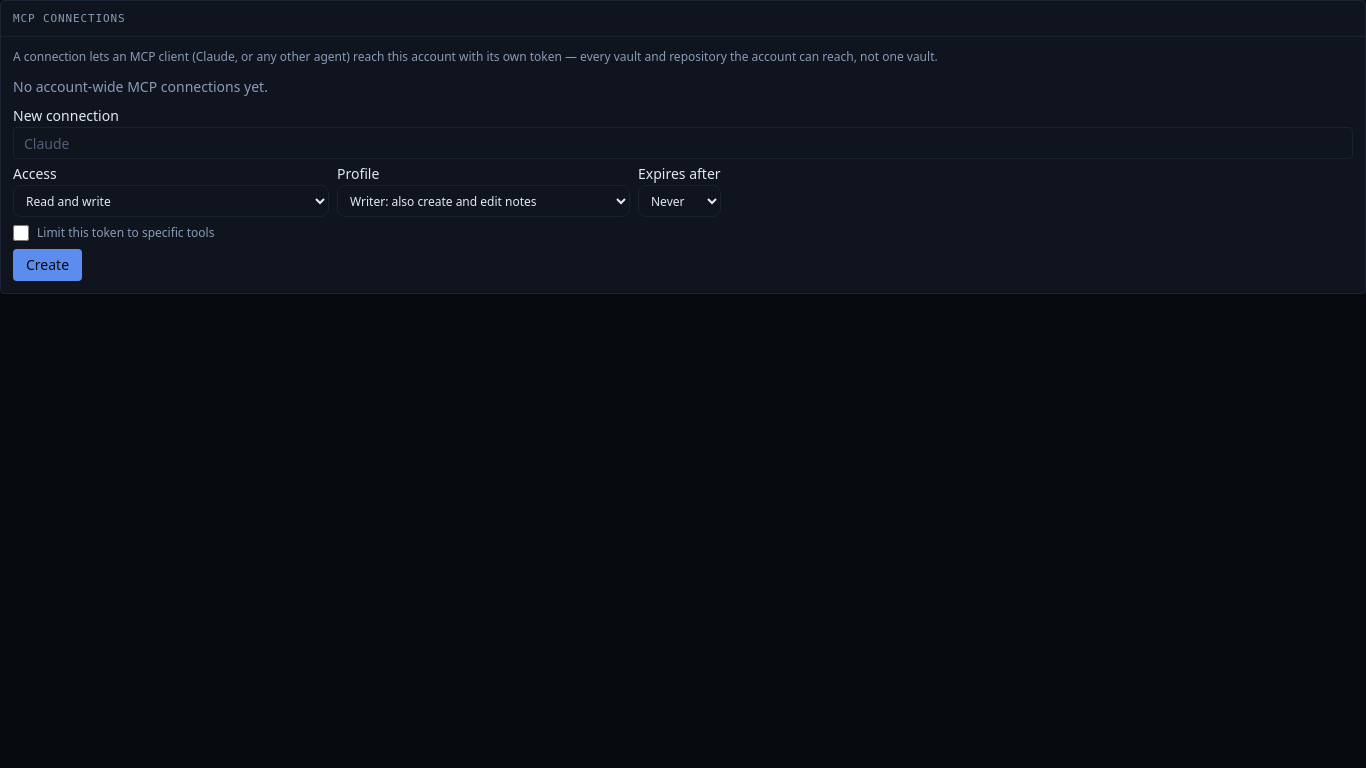
Test case: VaultMcpPanel › the profile follows the access level until one is picked, then is sent as picked (#428)
This screenshot has width=1366, height=768.
Expected: the text "No account-wide MCP connections yet." is shown, [13,77,268,96]
Expected: the dropdown labelled "Profile" shows "Writer: also create and edit notes", [337,185,630,217]
Select "Read only" in the dropdown labelled "Access" at (171, 201), box [13,185,329,217]
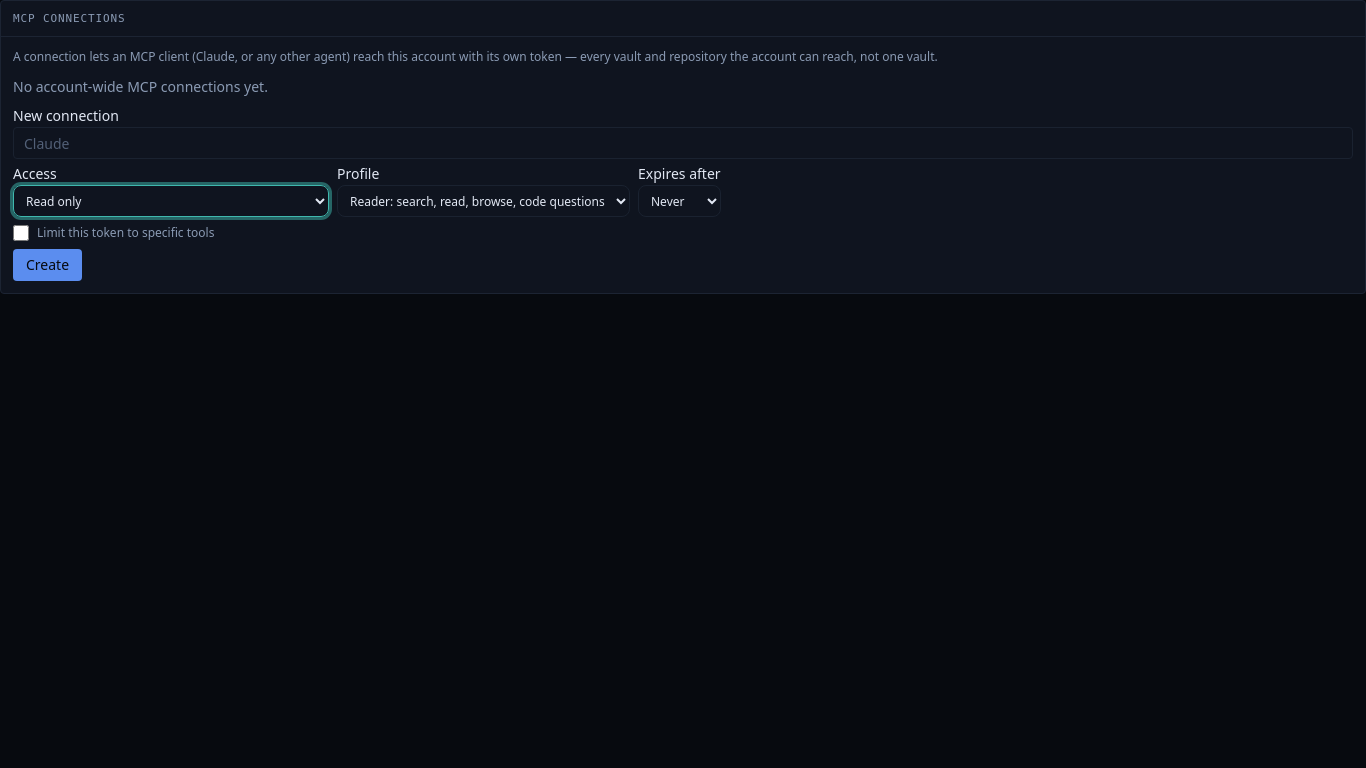
Now the dropdown labelled "Profile" shows "Reader: search, read, browse, code questions", box [337,185,630,217]
Select "Admin: also share, change settings, delete, purge" in the dropdown labelled "Access" at (171, 201), box [13,185,329,217]
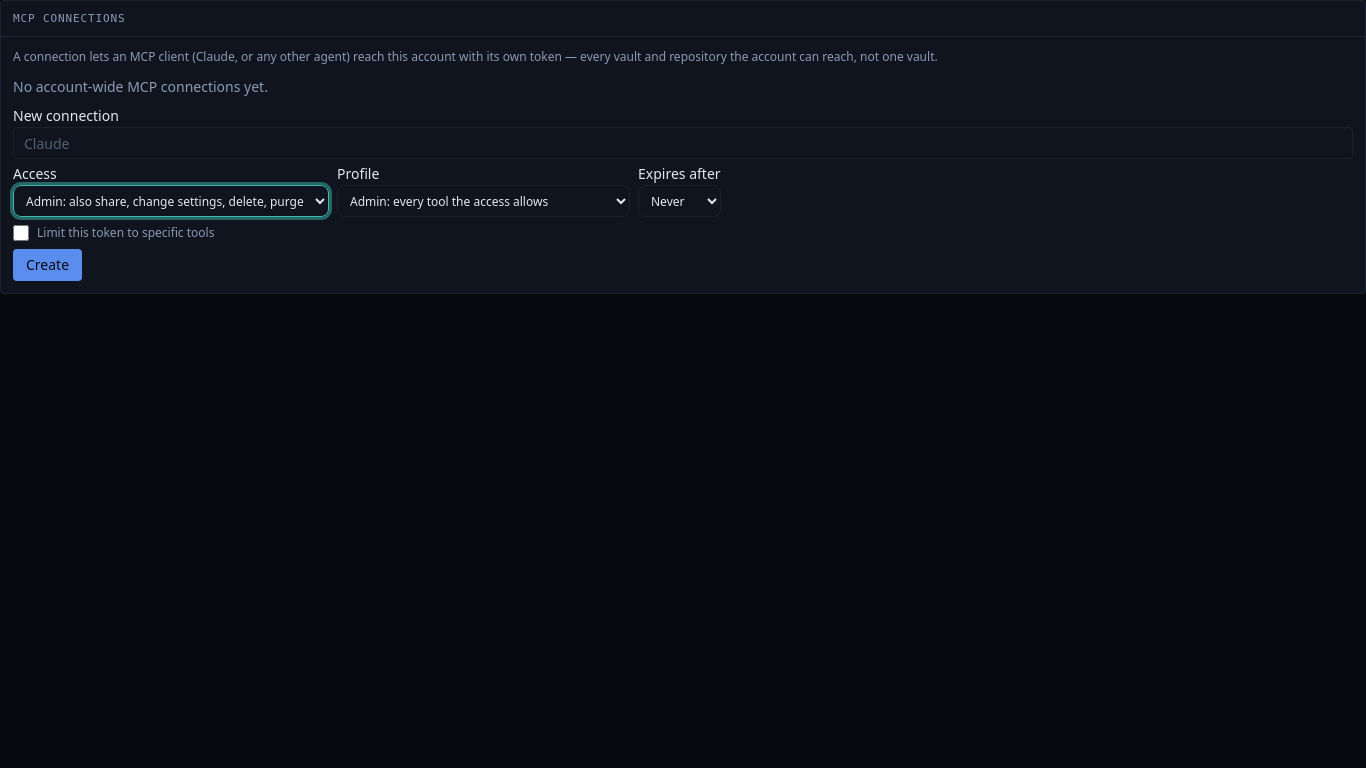
Now the dropdown labelled "Profile" shows "Admin: every tool the access allows"
// Once picked, the profile stays when the access level changes.
Select "Reader: search, read, browse, code questions" in the dropdown labelled "Profile" at (484, 201), box [337,185,630,217]
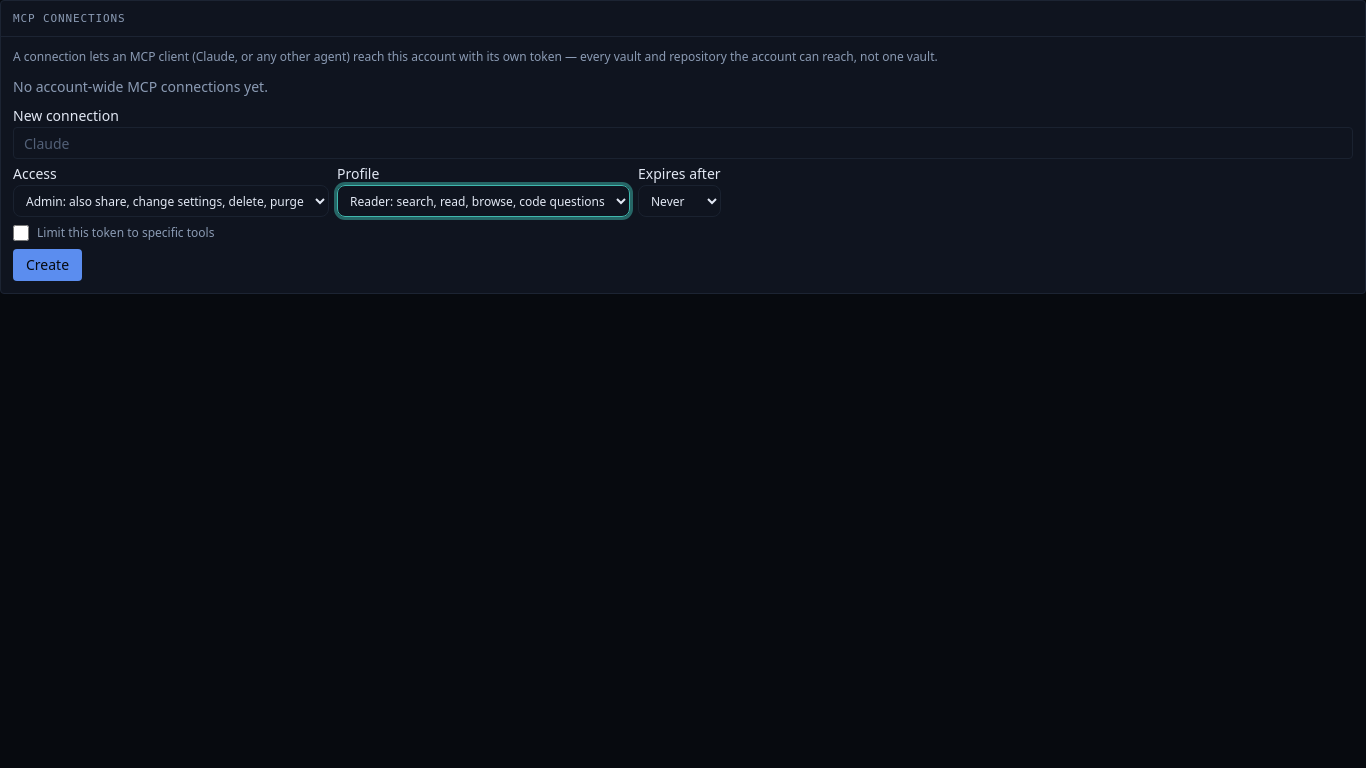
Select "Read and write" in the dropdown labelled "Access" at (171, 201), box [13,185,329,217]
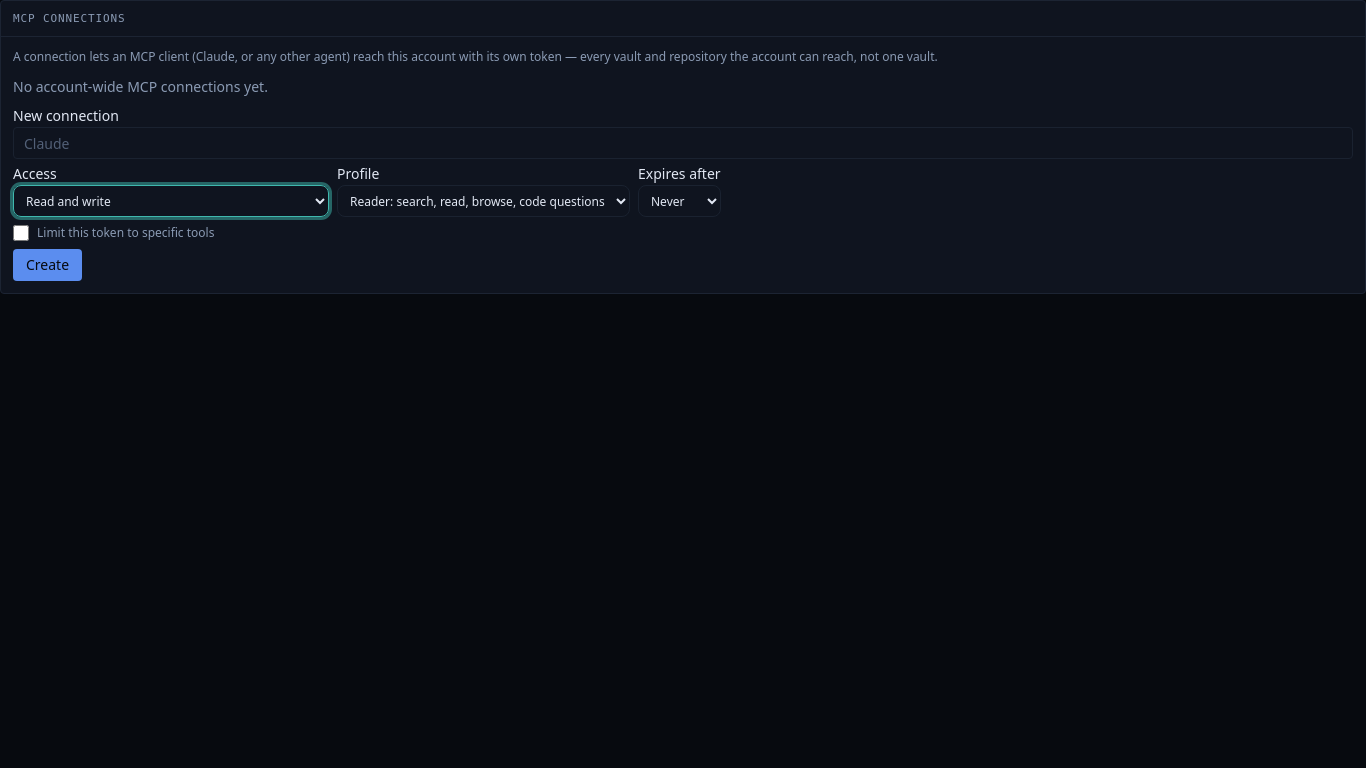
Type "Searcher" into the field labelled "New connection" at (683, 143), box [13,127,1353,159]
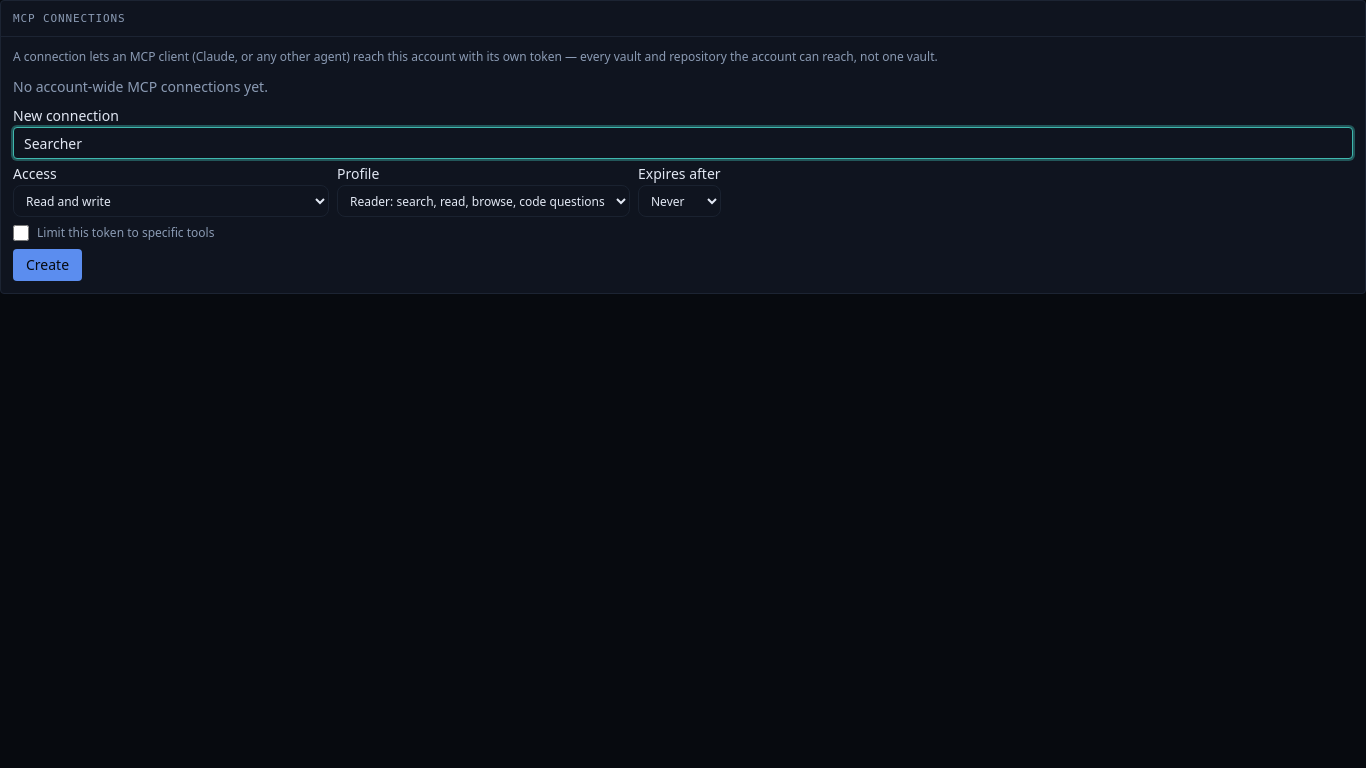
Click the button "Create" at (48, 265), box [13,249,82,281]
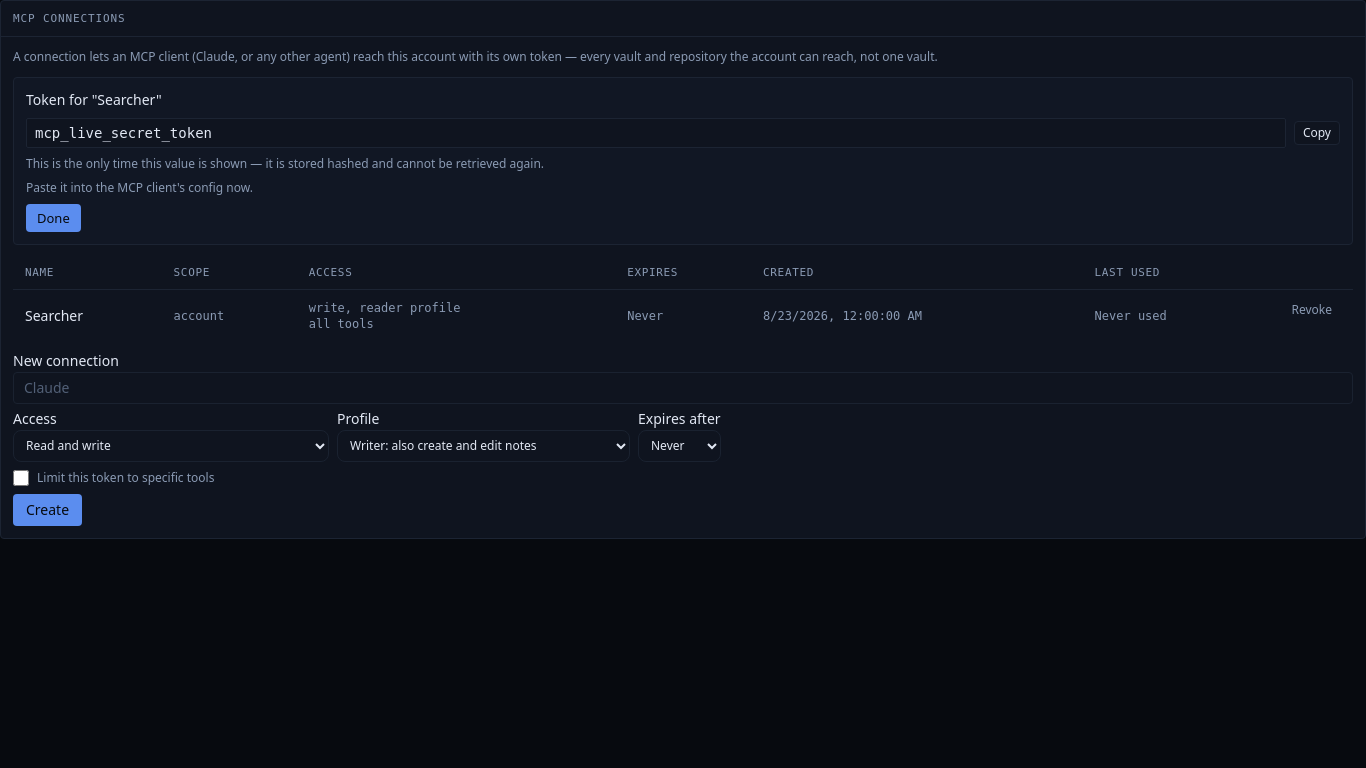
Now the text "mcp_live_secret_token" is shown, box [26,118,1286,148]
